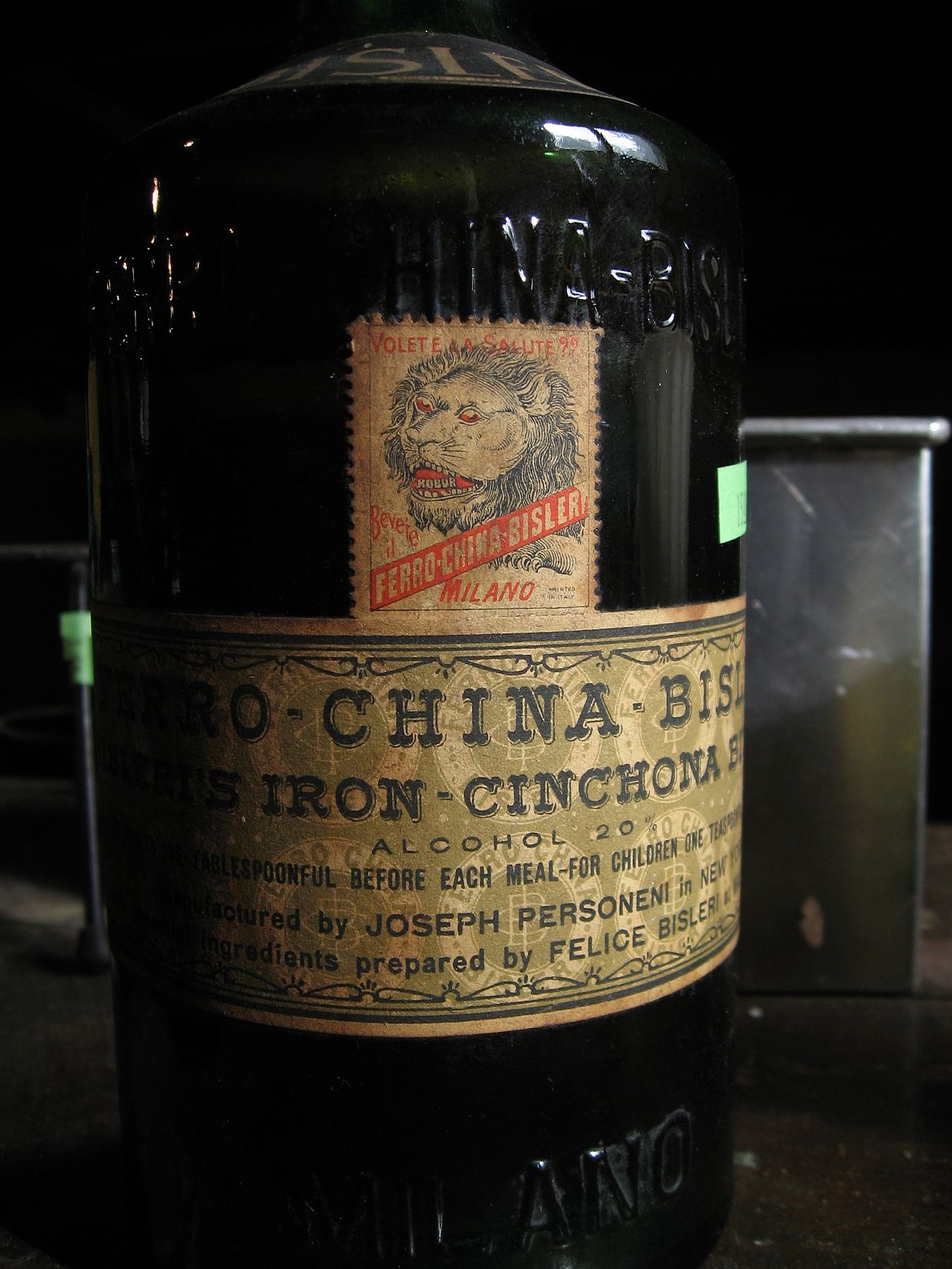unknown_bottle: (72, 31, 751, 1267), (735, 418, 943, 997)
